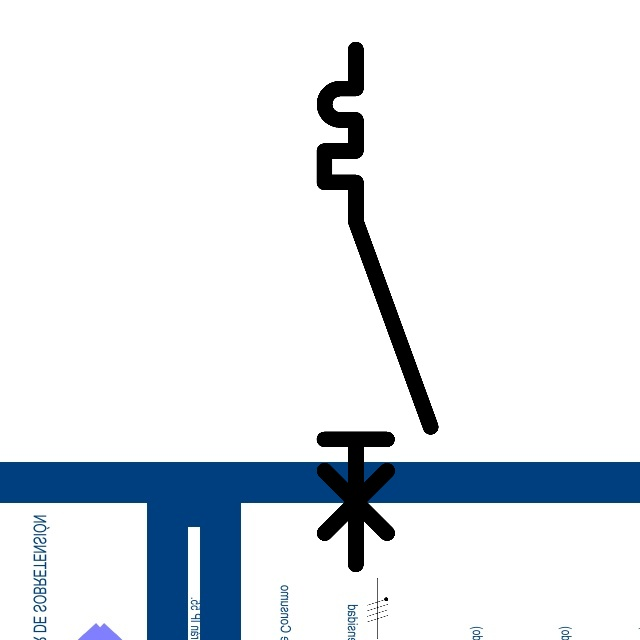interruptor_termomagnetico: (311, 36, 443, 578)
